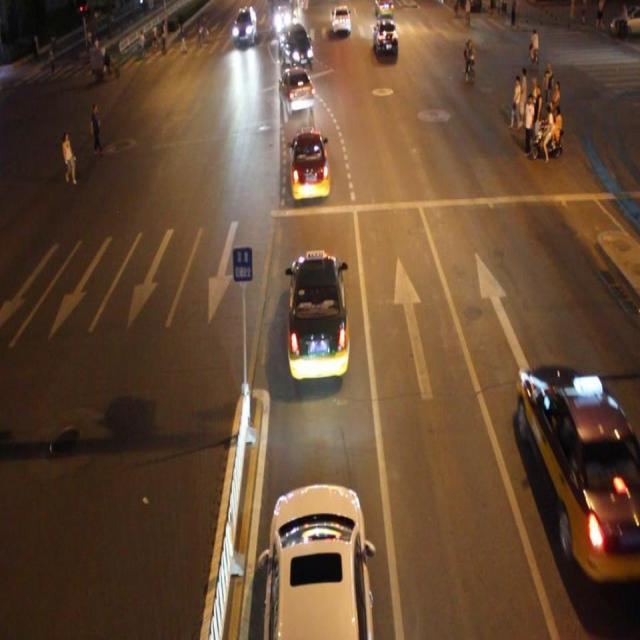car: (506, 336, 640, 598), (268, 467, 373, 640), (274, 237, 353, 396), (270, 114, 340, 210), (272, 51, 313, 118), (274, 14, 318, 70), (230, 0, 265, 47), (371, 18, 402, 58), (328, 0, 350, 33)
